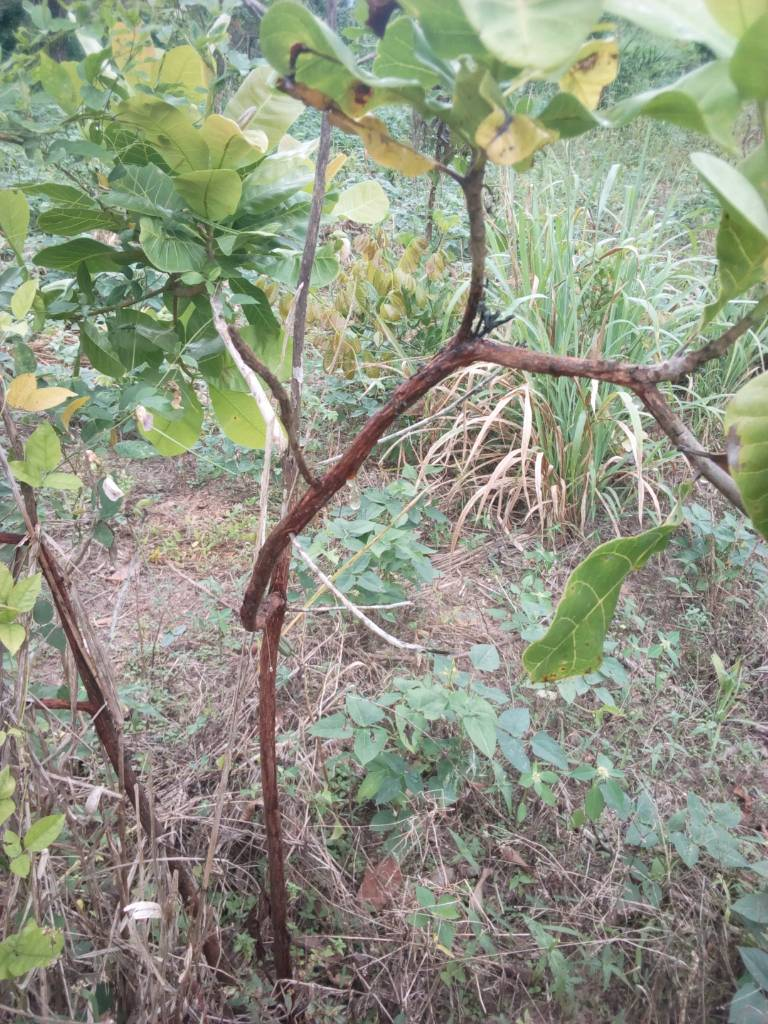Dessèchement des bourgeons: (485, 307, 515, 333)
